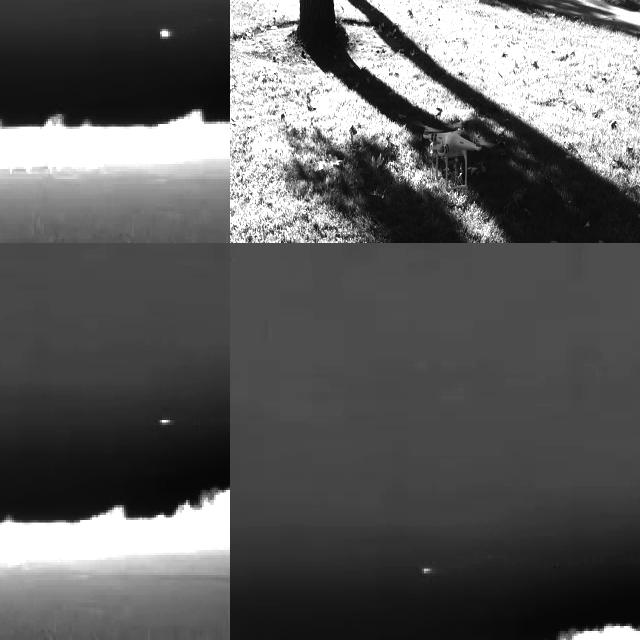0: (144, 19, 184, 49), (146, 405, 178, 440), (414, 558, 436, 586)
drone: (422, 122, 477, 194)
